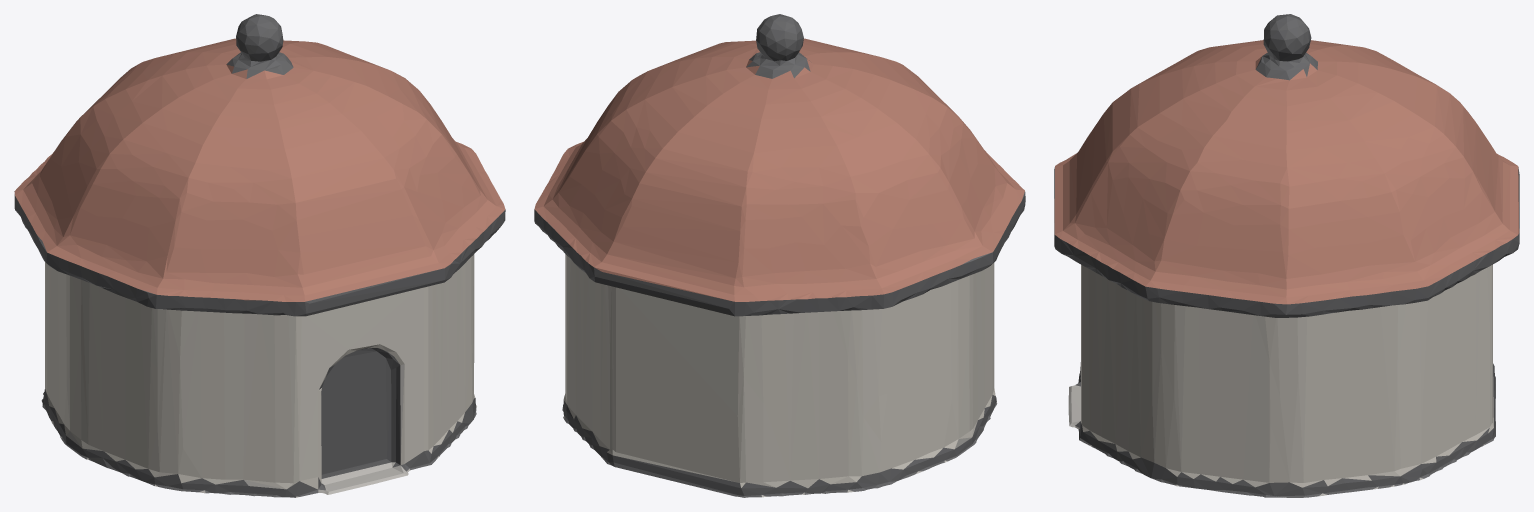
The picture shows the model from 3 angles, left to right: view 1: azimuth 30°, elevation 25°; view 2: azimuth 150°, elevation 25°; view 3: azimuth 270°, elevation 25°; orthographic projection.
Visible parts, largest first — view 1: geometry_0; view 2: geometry_0; view 3: geometry_0.
Boxes of the visible parts, bbox=[...] form: geometry_0: bbox=[14, 14, 505, 497]; geometry_0: bbox=[534, 14, 1025, 497]; geometry_0: bbox=[1054, 14, 1519, 497].
Bounding box in the file's own units: 1 × 0.8763 × 0.9466.
